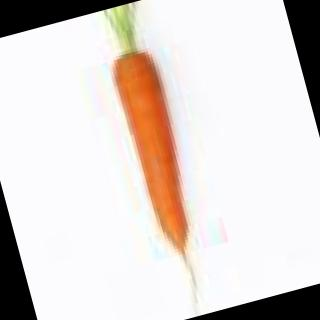Wortel: (76, 1, 262, 309)
